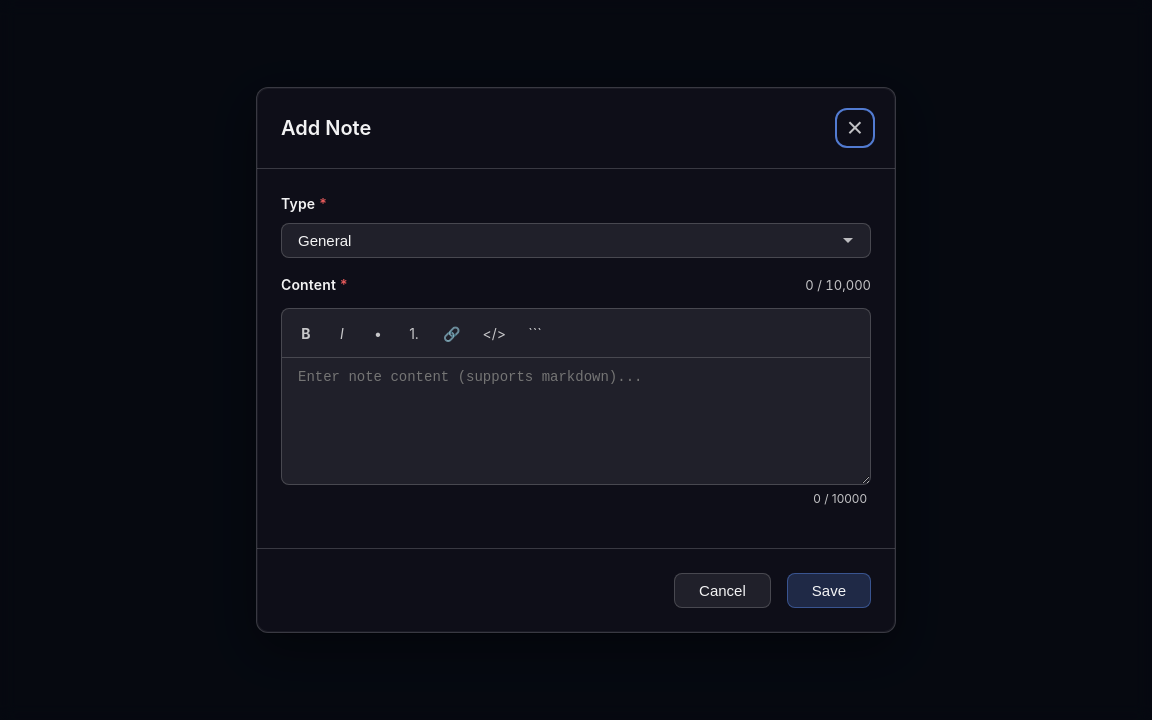
NoteModal Accessibility › Form Accessibility › validation error has role="alert" for screen reader announcement
Trigger validation error by saving empty
Click the button "Save": click(829, 591) top-left (787, 574), bottom-right (871, 608)
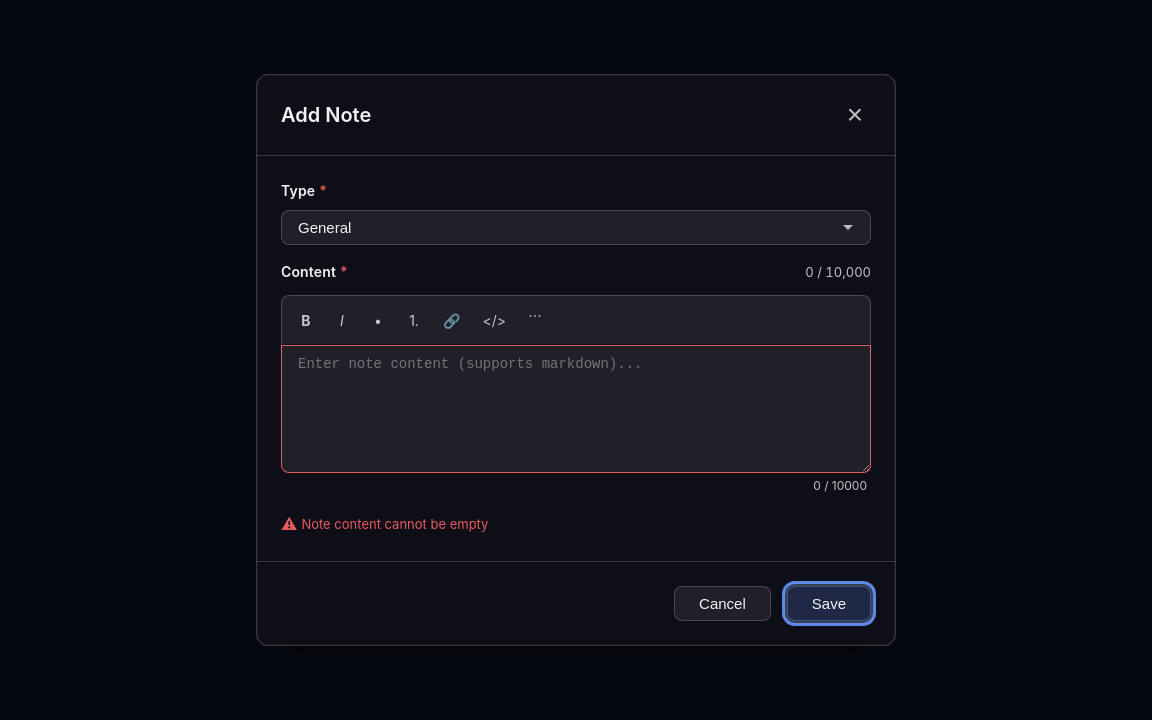
Expected: the message reads "Note content cannot be empty", top-left (301, 516), bottom-right (488, 532)
